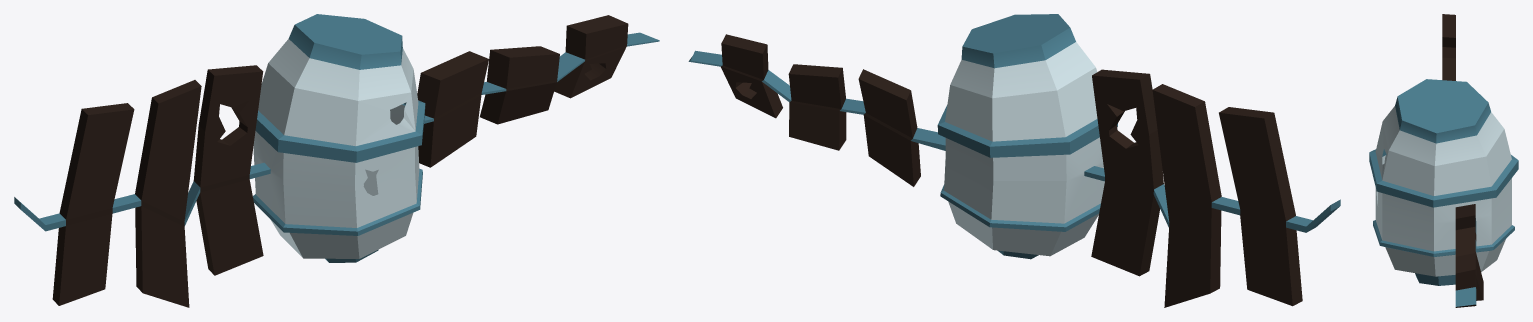
File: SatelliteV2.fbx
The picture shows the model from 3 angles, left to right: view 1: azimuth 30°, elevation 25°; view 2: azimuth 150°, elevation 25°; view 3: azimuth 270°, elevation 25°; orthographic projection. The views are drawn at different scales.
Visible parts, largest first — view 1: pCylinder5; view 2: pCylinder5; view 3: pCylinder5.
Boxes of the visible parts, <box> form: pCylinder5: <box>14,14,659,307</box>; pCylinder5: <box>688,14,1340,307</box>; pCylinder5: <box>1369,14,1518,307</box>.
Bounding box in the file's own units: 581 × 209 × 141.
